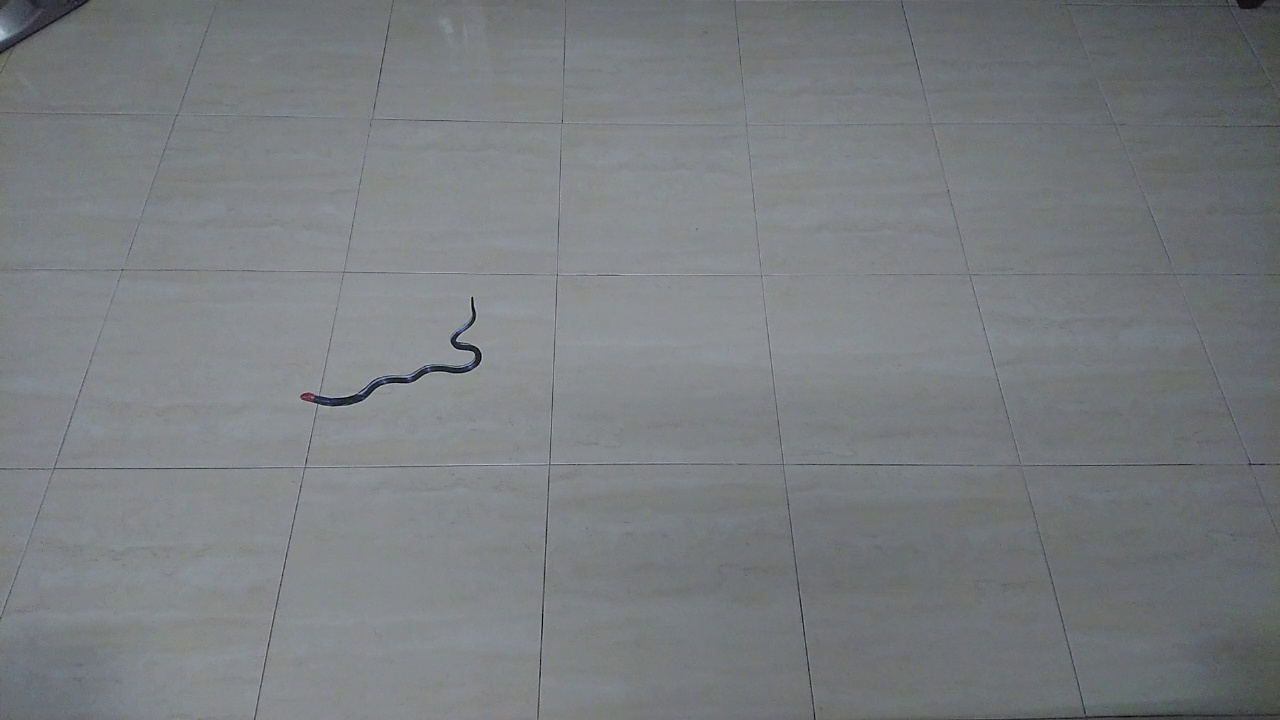snake: (282, 278, 505, 418)
